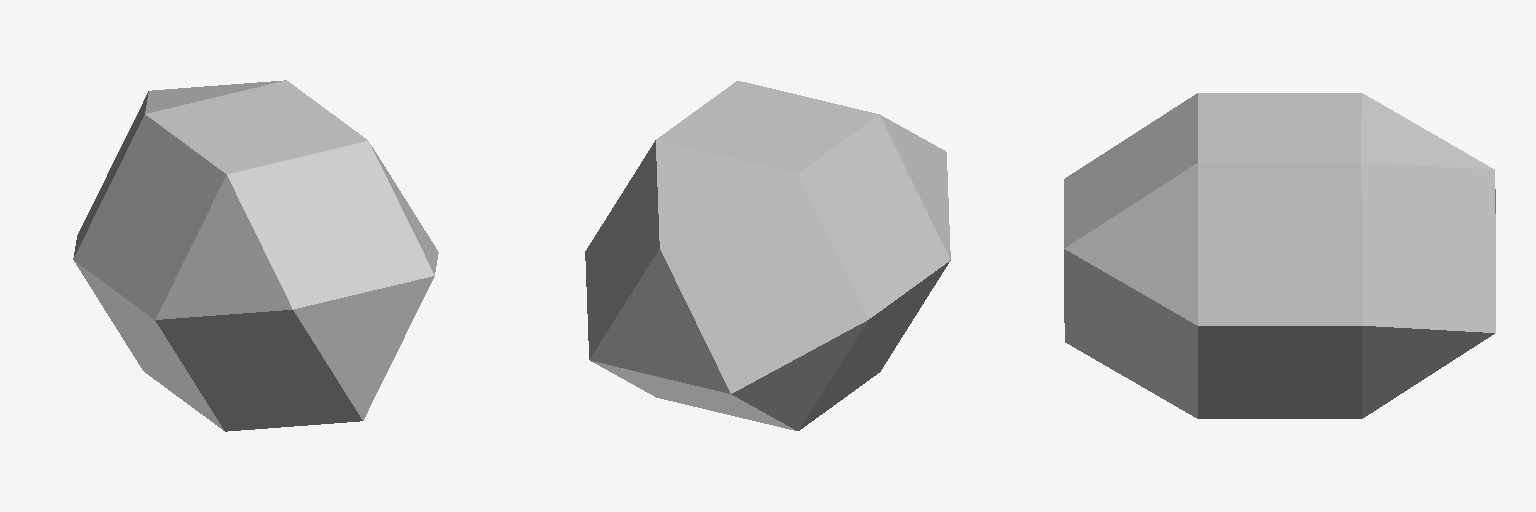
The model's file is ElongatedTriangularGyroBiCupola.obj.
The picture shows the model from 3 angles: view 1: azimuth 30°, elevation 25°; view 2: azimuth 150°, elevation 25°; view 3: azimuth 270°, elevation 25°; orthographic projection.
Parts seen in each view (by area): view 1: ElongatedTriangularGyroBiCupola; view 2: ElongatedTriangularGyroBiCupola; view 3: ElongatedTriangularGyroBiCupola.
Part boxes in pixels (x1,y1,x2,y2): ElongatedTriangularGyroBiCupola: (73,80,438,431); ElongatedTriangularGyroBiCupola: (585,81,950,430); ElongatedTriangularGyroBiCupola: (1064,93,1495,418).
Bounding box in the file's own units: 1.5 × 1.3 × 1.98.